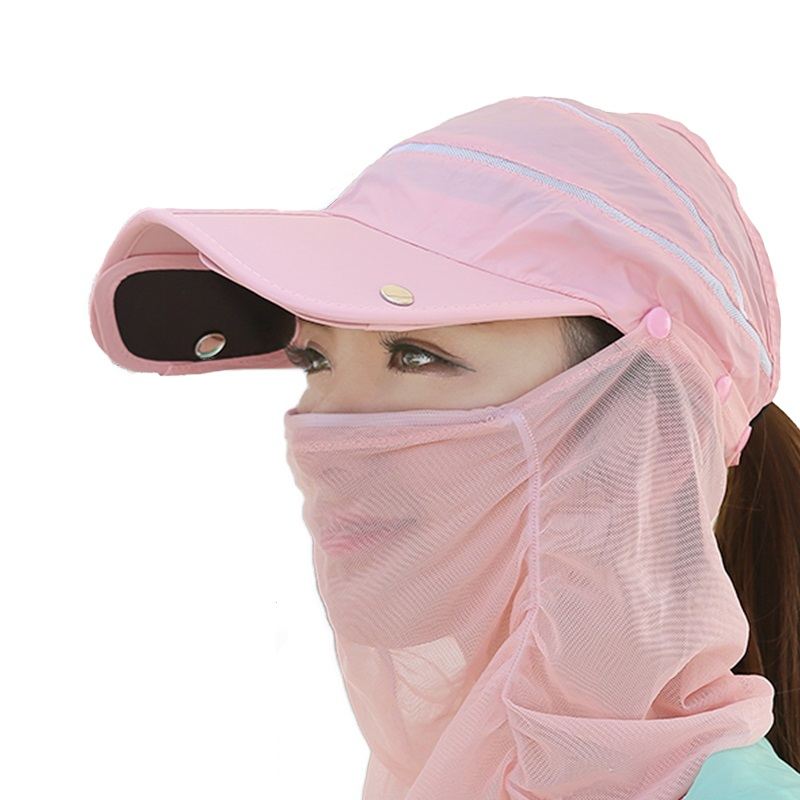face_mask: (285, 238, 607, 652)
